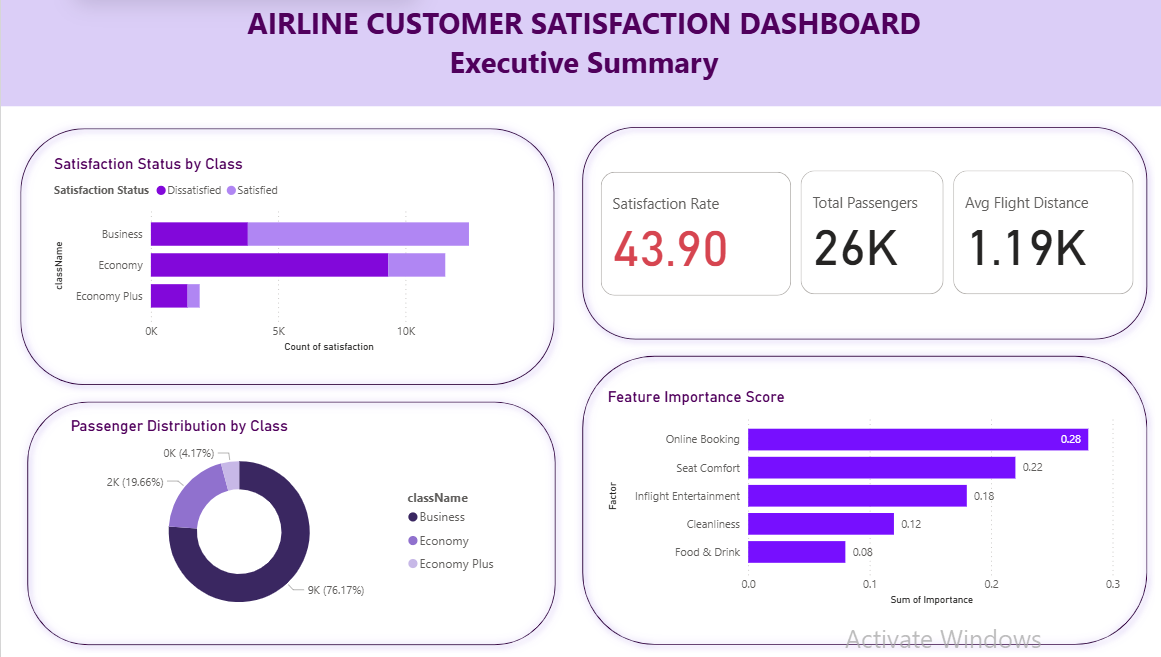

The dashboard page shown, as its layout file describes it:
{"tool":"powerbi","page":{"name":"Page 1","canvas":[1280,720],"ordinal":0},"visuals":[{"type":"shape","box":[629,383.9,638.7,335.5],"z":0},{"type":"shape","box":[19.4,433.9,598.4,285.5],"z":1000},{"type":"shape","box":[12.9,133.9,604.8,300],"z":2000},{"type":"shape","box":[629,132.3,638.7,251.6],"z":3000},{"type":"cardVisual","fields":{"Data":["cleaned_airline_data.Satisfaction Rate"]},"box":[653.2,185.5,219.4,146.8],"z":4000},{"type":"cardVisual","fields":{"Data":["cleaned_airline_data.Total Passengers"]},"box":[872.6,183.9,167.7,146.8],"z":5000},{"type":"cardVisual","fields":{"Data":["cleaned_airline_data.Avg Flight Distance"]},"box":[1040.3,183.9,208.1,146.8],"z":6000},{"type":"donutChart","title":"Passenger Distribution by Class","fields":{"Category":["cleaned_airline_data.className"],"Y":["Sum(cleaned_airline_data.satisfaction)"]},"box":[71,459.7,483.9,232.3],"z":7000},{"type":"barChart","title":"Feature Importance Score","fields":{"Y":["Sum(Factors.Importance)"],"Category":["Factors.Factor"]},"box":[661.3,429,575.8,243.5],"z":8000},{"type":"barChart","title":"Satisfaction Status by Class","fields":{"Category":["cleaned_airline_data.className"],"Y":["CountNonNull(cleaned_airline_data.satisfaction)"],"Series":["cleaned_airline_data.Satisfaction Status"]},"box":[53.2,172.6,517.7,221],"z":9000},{"type":"textbox","box":[0,0,1280.9,119.1],"z":10000}]}

Visuals, with their boxes in screenshot pixels (x1, y1, x2, y2), scaled from the page's 1280x720 canvas onto the 1161x657 screenshot:
shape: <box>571,350,1150,656</box>
shape: <box>18,396,560,656</box>
shape: <box>12,122,560,396</box>
shape: <box>571,121,1150,350</box>
cardVisual - cleaned_airline_data.Satisfaction Rate: <box>592,169,791,303</box>
cardVisual - cleaned_airline_data.Total Passengers: <box>791,168,944,302</box>
cardVisual - cleaned_airline_data.Avg Flight Distance: <box>944,168,1132,302</box>
"Passenger Distribution by Class" donutChart: <box>64,419,503,631</box>
"Feature Importance Score" barChart: <box>600,391,1122,614</box>
"Satisfaction Status by Class" barChart: <box>48,157,518,359</box>
textbox: <box>0,0,1160,109</box>
